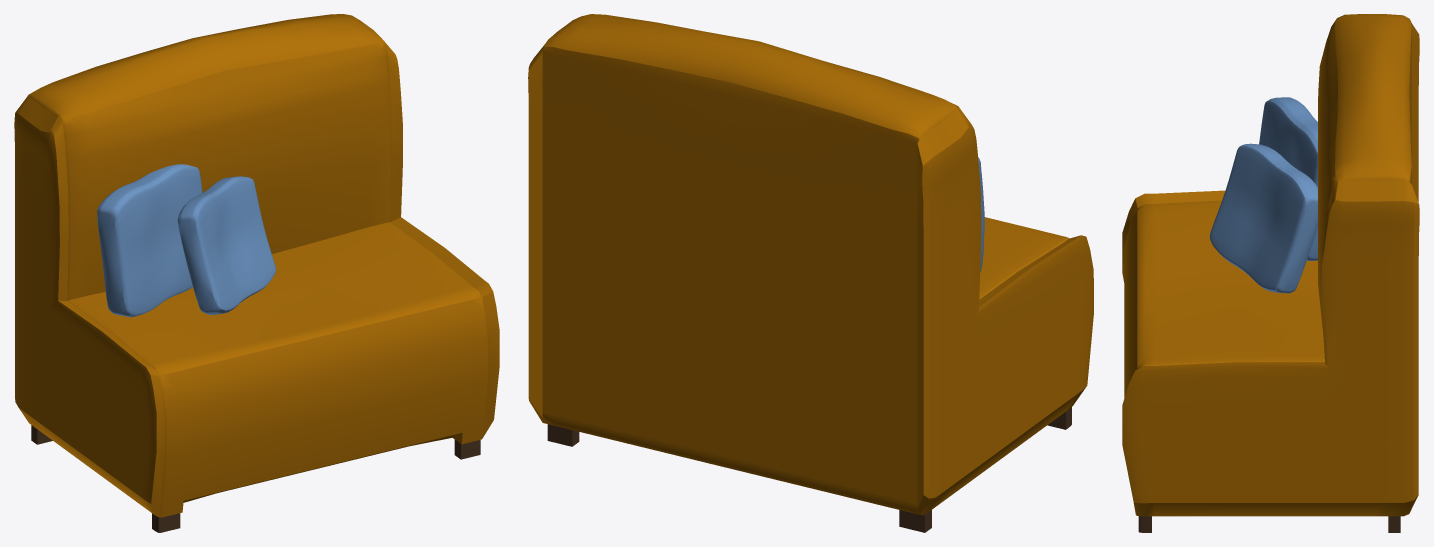
The model's file is psyCouch01.fbx.
3 views of the same model, side by side, from view 1: azimuth 30°, elevation 25°; view 2: azimuth 150°, elevation 25°; view 3: azimuth 270°, elevation 25° (orthographic). The views are drawn at different scales.
Visible parts, largest first — view 1: couch_geo, cushion01_geo, cushion02_geo; view 2: couch_geo; view 3: couch_geo, cushion02_geo, cushion01_geo.
Part boxes in pixels (x1=…): couch_geo: x1=14, y1=14, x2=499, y2=532; cushion01_geo: x1=97, y1=164, x2=202, y2=317; cushion02_geo: x1=177, y1=176, x2=275, y2=314; couch_geo: x1=528, y1=14, x2=1093, y2=532; couch_geo: x1=1122, y1=14, x2=1419, y2=532; cushion02_geo: x1=1209, y1=143, x2=1317, y2=293; cushion01_geo: x1=1259, y1=97, x2=1317, y2=260.
Bounding box in the file's own units: 204 × 209 × 147.
